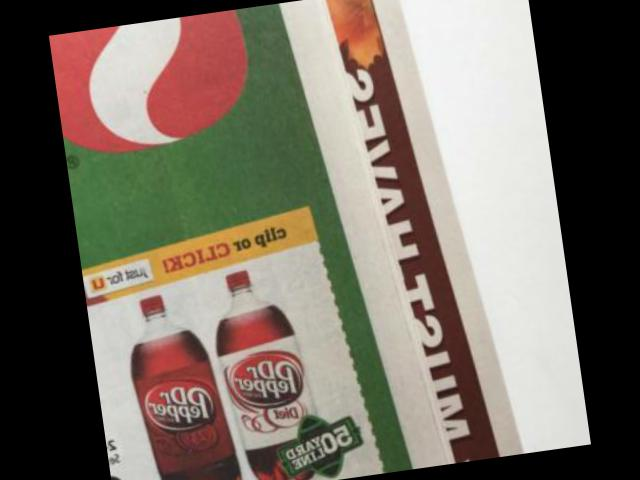cardboard paper: (49, 0, 519, 480)
